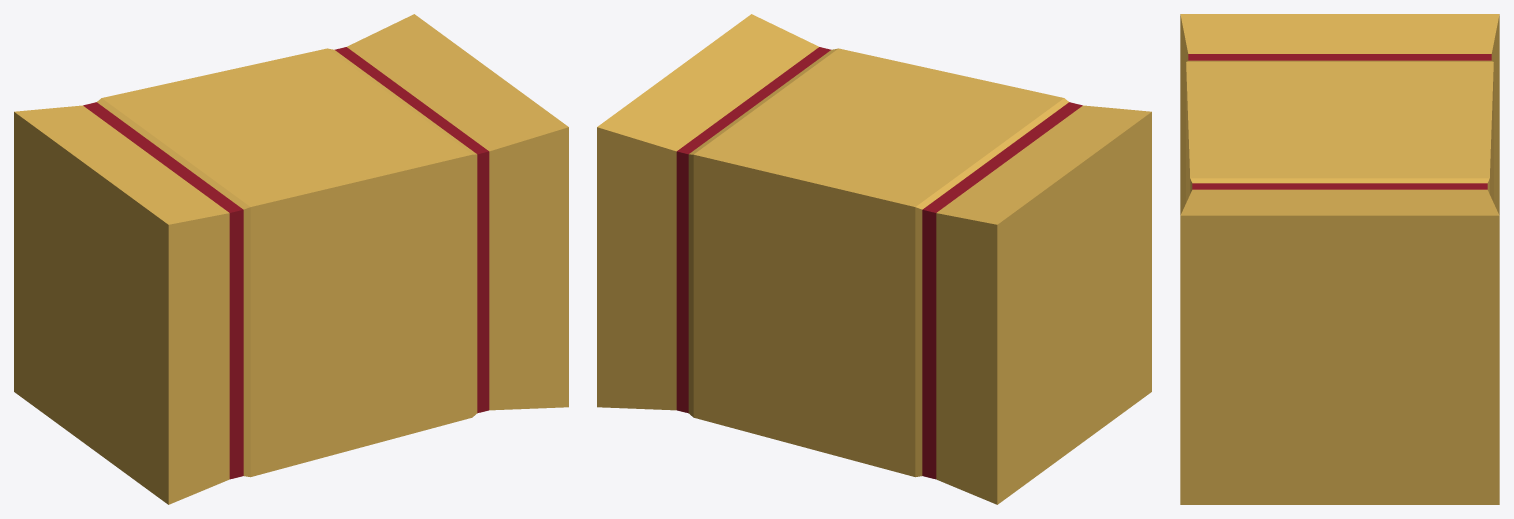
File: Weiland_Hooibaal_GGJ.fbx
The picture shows the model from 3 angles, left to right: view 1: azimuth 30°, elevation 25°; view 2: azimuth 150°, elevation 25°; view 3: azimuth 270°, elevation 25°; orthographic projection. The views are drawn at different scales.
Visible parts, largest first — view 1: Cube; view 2: Cube; view 3: Cube.
Part boxes in pixels (box(x1,y1,x2,y2)): Cube: box(14, 14, 568, 504); Cube: box(597, 14, 1151, 504); Cube: box(1180, 14, 1499, 504).
Bounding box in the file's own units: 164 × 109 × 109.
